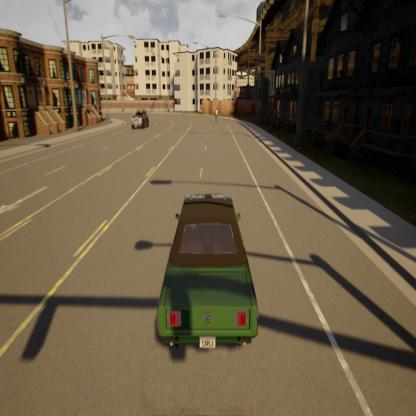Cars: (150, 178, 262, 362), (130, 103, 152, 134)
